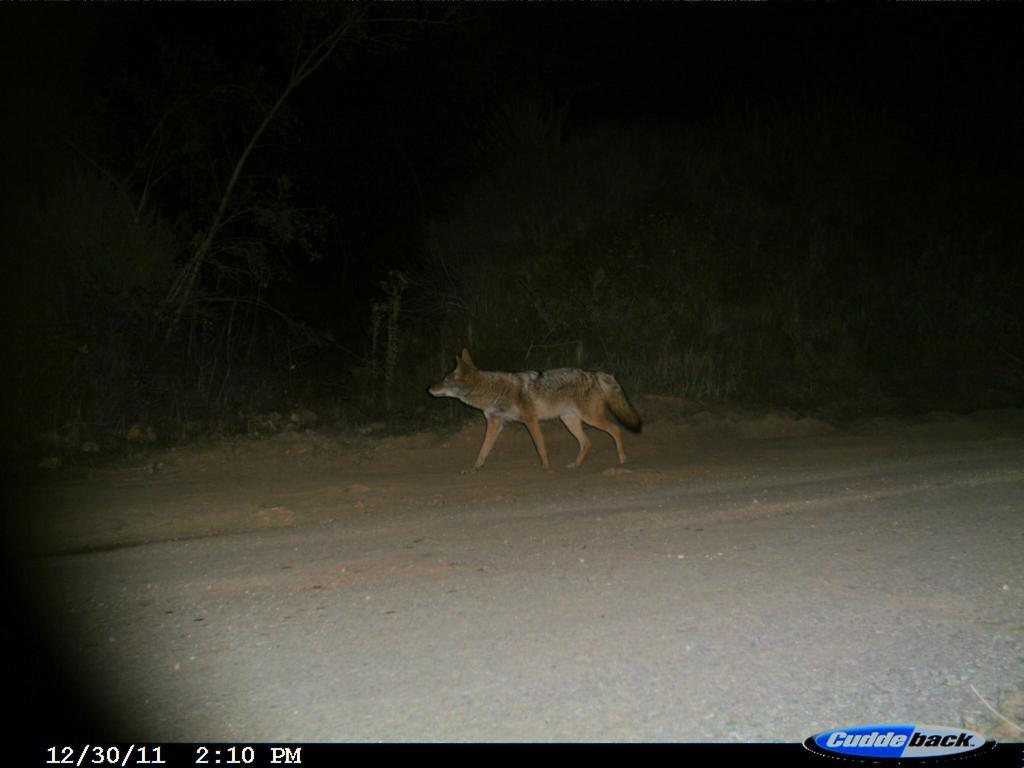coyote: (420, 342, 652, 473)
